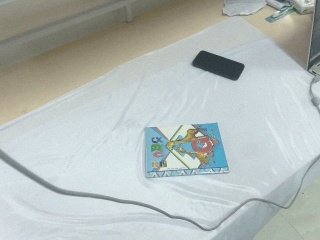book: (144, 122, 230, 179)
phone: (192, 50, 245, 81)
